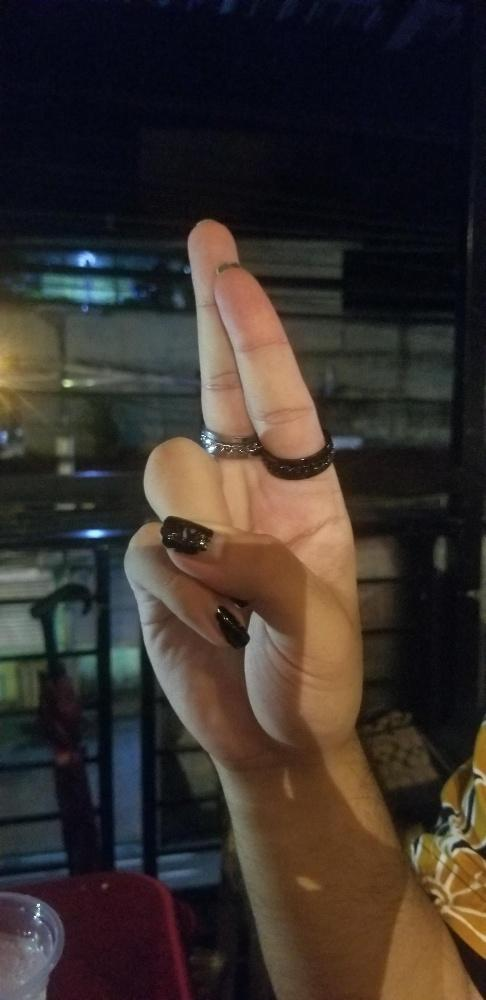r: (126, 217, 368, 734)
